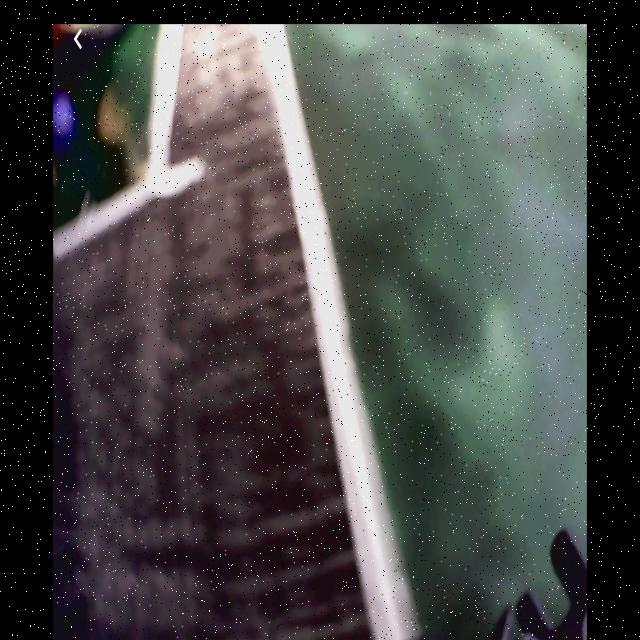ball: (55, 91, 77, 149)
